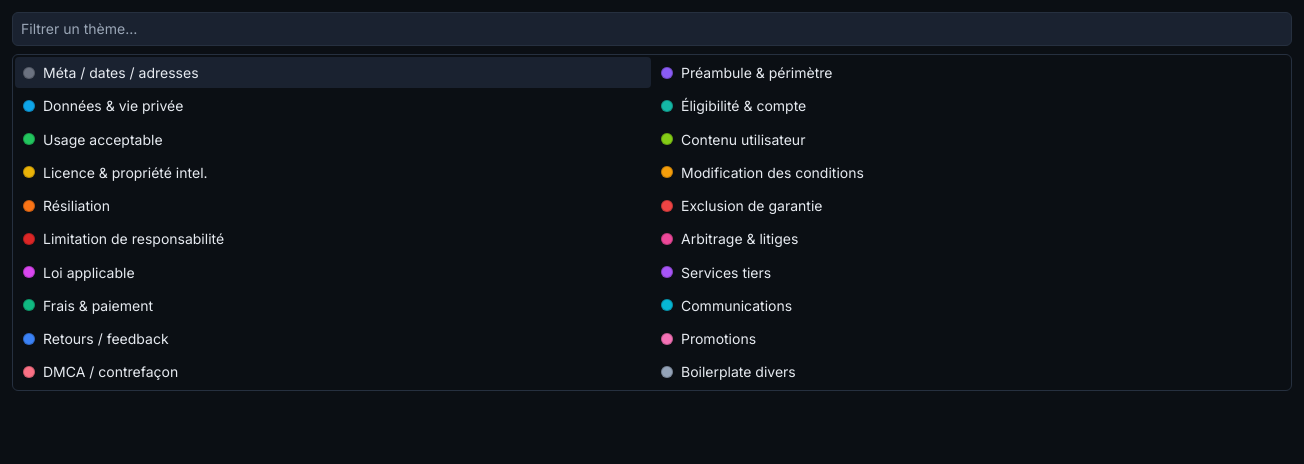
Test case: ThemePalette — info-bulle d'intention › affiche le tooltip après ~450 ms (intention), pas instantanément
This screenshot has width=1304, height=464.
Hover over the option with test id "theme-option-TERMINATION".
mouse_move(66, 206)  # box [23,197,110,214]
Wait 500 ms
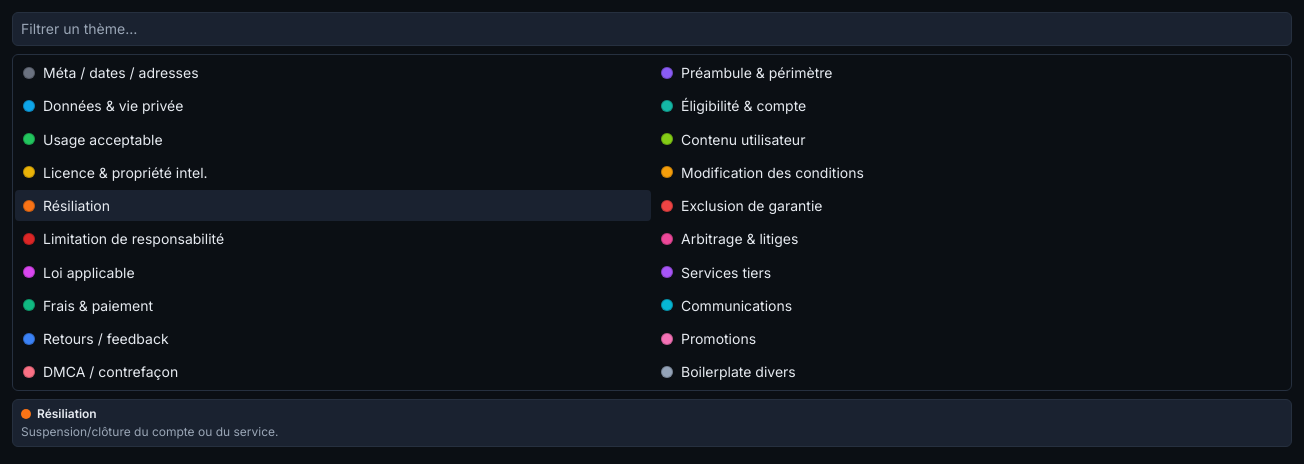
Now the tooltip with test id "theme-tooltip" shows "Résiliation", box [37,406,97,420]
Now the tooltip with test id "theme-tooltip" reads "Résiliation Suspension/clôture du compte ou du service.", box [21,424,278,438]
